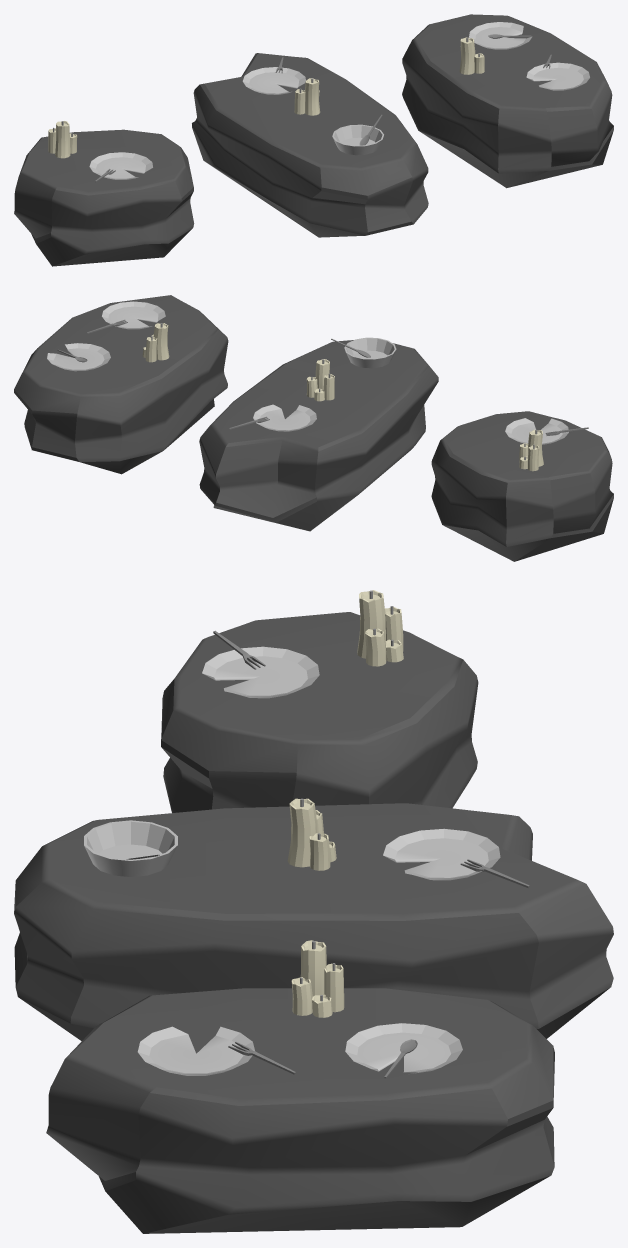
File: MesasdeCarcel.fbx
3 views of the same model, one above another, from view 1: azimuth 30°, elevation 25°; view 2: azimuth 150°, elevation 25°; view 3: azimuth 270°, elevation 25° (orthographic). The views are drawn at different scales.
Visible parts, largest first — view 1: polySurface49, polySurface66, polySurface42, polySurface63, polySurface54, polySurface43, polySurface65, polySurface52, polySurface48, polySurface51, polySurface61; view 2: polySurface49, polySurface66, polySurface42, polySurface63, polySurface65, polySurface52, polySurface54, polySurface43, polySurface51, polySurface48, polySurface61; view 3: polySurface66, polySurface49, polySurface42, polySurface54, polySurface43, polySurface52, polySurface65, polySurface63, polySurface61, polySurface48, polySurface51.
Part boxes in pixels (left/top/right/bottom): polySurface49: left=192, top=53, right=428, bottom=237; polySurface66: left=402, top=14, right=613, bottom=188; polySurface42: left=14, top=129, right=194, bottom=266; polySurface63: left=526, top=62, right=589, bottom=90; polySurface54: left=242, top=67, right=305, bottom=94; polySurface43: left=89, top=152, right=152, bottom=179; polySurface65: left=469, top=22, right=532, bottom=49; polySurface52: left=332, top=124, right=383, bottom=155; polySurface48: left=48, top=121, right=77, bottom=158; polySurface51: left=294, top=78, right=320, bottom=115; polySurface61: left=459, top=37, right=484, bottom=74; polySurface49: left=199, top=340, right=438, bottom=531; polySurface66: left=14, top=295, right=228, bottom=474; polySurface42: left=431, top=411, right=613, bottom=561; polySurface63: left=102, top=301, right=165, bottom=329; polySurface65: left=47, top=343, right=110, bottom=371; polySurface52: left=344, top=337, right=396, bottom=368; polySurface54: left=253, top=404, right=316, bottom=431; polySurface43: left=505, top=418, right=568, bottom=444; polySurface51: left=306, top=359, right=334, bottom=401; polySurface48: left=519, top=429, right=543, bottom=471; polySurface61: left=142, top=323, right=169, bottom=362; polySurface66: left=46, top=988, right=554, bottom=1233; polySurface49: left=14, top=803, right=613, bottom=1041; polySurface42: left=161, top=612, right=478, bottom=812; polySurface54: left=383, top=828, right=500, bottom=880; polySurface43: left=202, top=646, right=319, bottom=698; polySurface52: left=84, top=820, right=177, bottom=876; polySurface65: left=345, top=1023, right=462, bottom=1074; polySurface63: left=137, top=1026, right=254, bottom=1075; polySurface61: left=291, top=940, right=344, bottom=1017; polySurface48: left=357, top=590, right=403, bottom=666; polySurface51: left=287, top=798, right=336, bottom=870.
Bounding box in the file's own units: 13.67 × 2.69 × 6.9.
